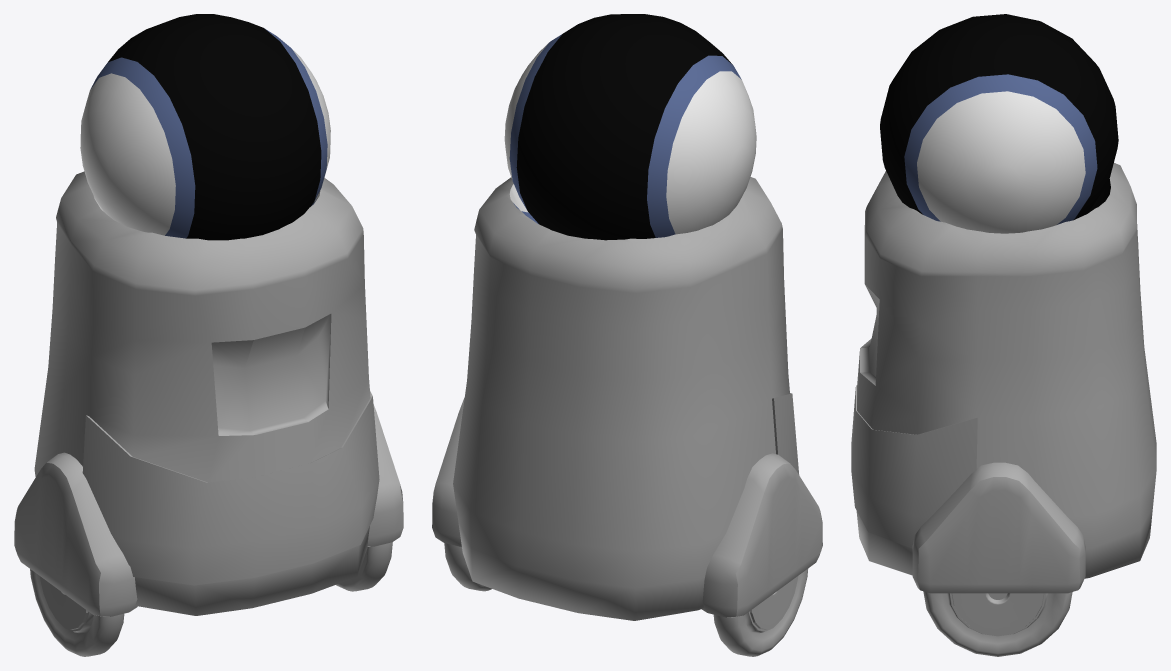
File: RobotSecurity.fbx
3 renders of one model, left to right at view 1: azimuth 30°, elevation 25°; view 2: azimuth 150°, elevation 25°; view 3: azimuth 270°, elevation 25°, orthographic. The views are drawn at different scales.
Parts seen in each view (by area): view 1: polySurface1; view 2: polySurface1; view 3: polySurface1.
Boxes of the visible parts, <box> form: polySurface1: <box>14,14,403,656</box>; polySurface1: <box>432,14,822,656</box>; polySurface1: <box>851,14,1156,656</box>.
Bounding box in the file's own units: 3.75 × 6.77 × 3.32.
